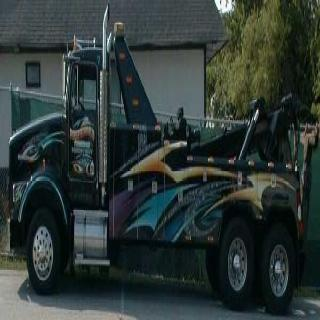Towing_truck: (7, 4, 315, 310)
